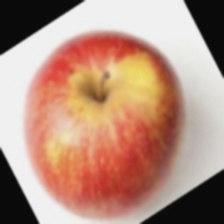apple: (29, 18, 215, 175)
